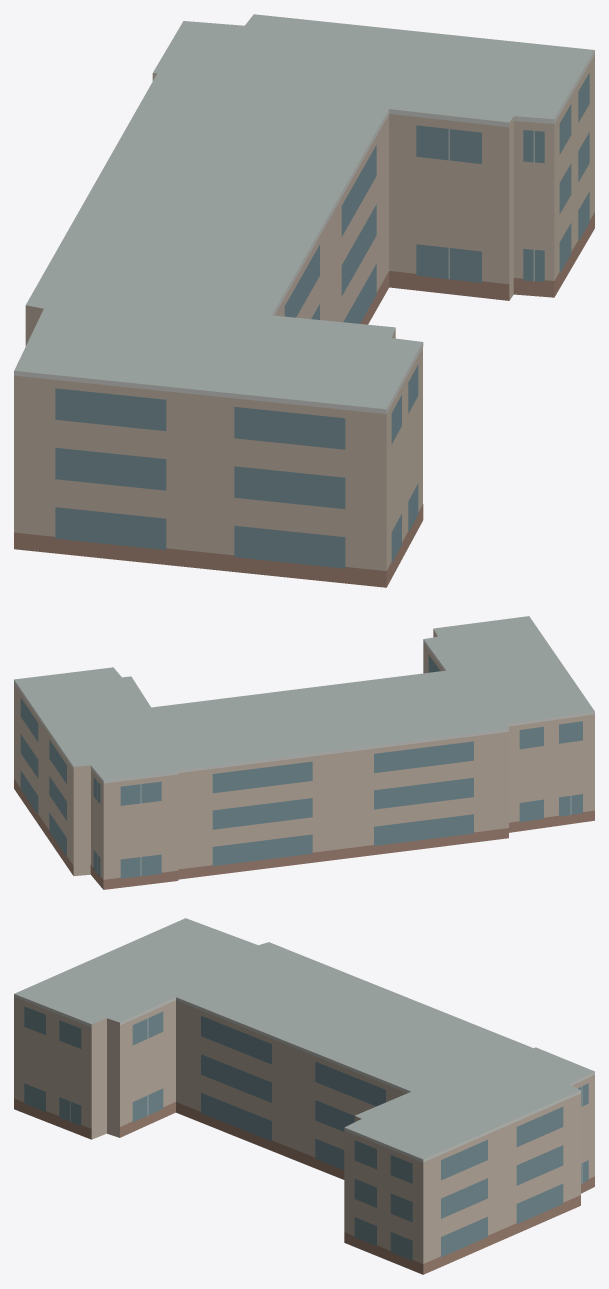
File: survey-upis-32754223.glb
The picture shows the model from 3 angles, top to bottom: view 1: azimuth 30°, elevation 25°; view 2: azimuth 150°, elevation 25°; view 3: azimuth 270°, elevation 25°; orthographic projection. The views are drawn at different scales.
Parts seen in each view (by area): view 1: survey-upis-32754223.tmp; view 2: survey-upis-32754223.tmp; view 3: survey-upis-32754223.tmp.
Boxes of the visible parts, x1,y1,x2,y2 form: survey-upis-32754223.tmp: [14, 14, 594, 587]; survey-upis-32754223.tmp: [14, 616, 594, 889]; survey-upis-32754223.tmp: [14, 918, 594, 1274].
Bounding box in the file's own units: 41.05 × 9.15 × 41.75.
